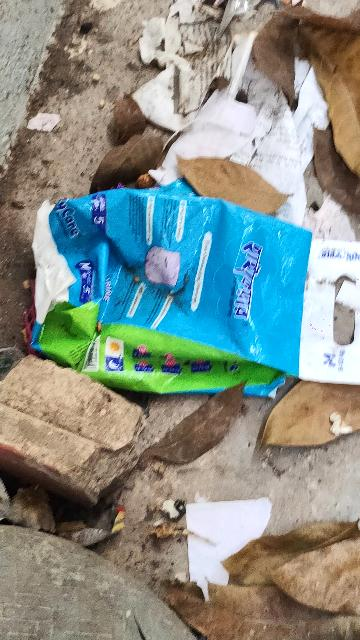packet: (16, 188, 315, 390)
